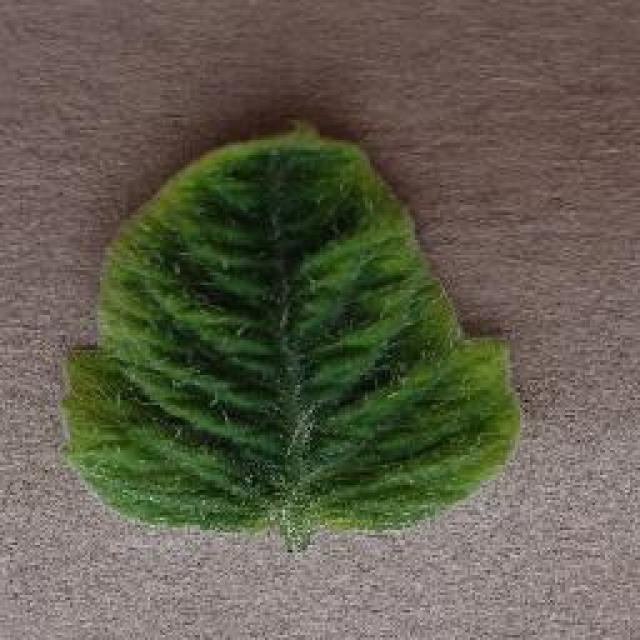Tomato yellow virus leaf: (50, 119, 530, 539)
